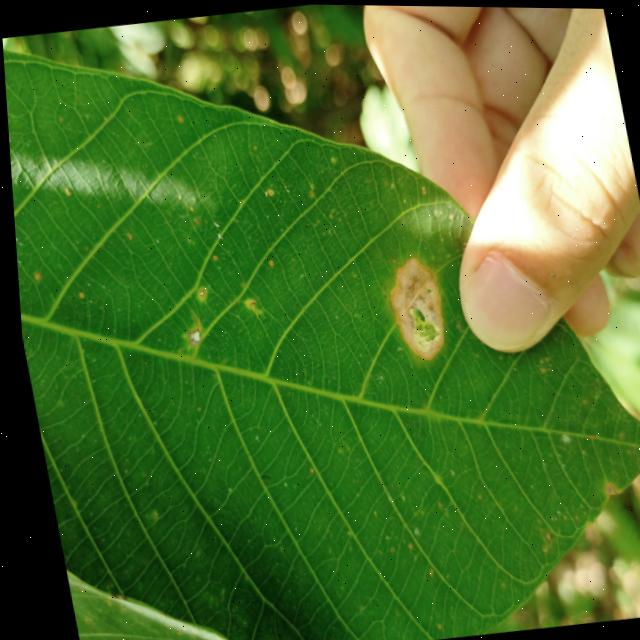Colletotrichum: (181, 325, 198, 344), (535, 528, 547, 541), (194, 287, 202, 296)
Leaf-Blight: (380, 253, 446, 361)
